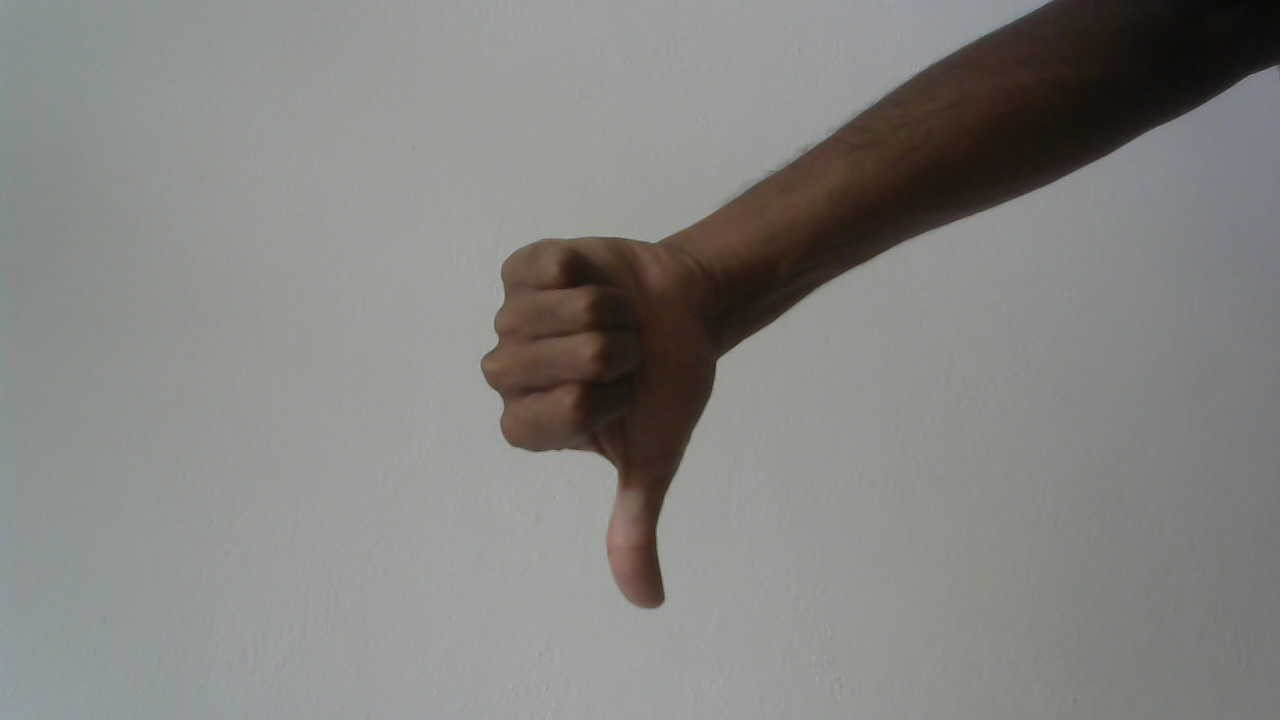thumbsdown: (471, 219, 749, 629)
